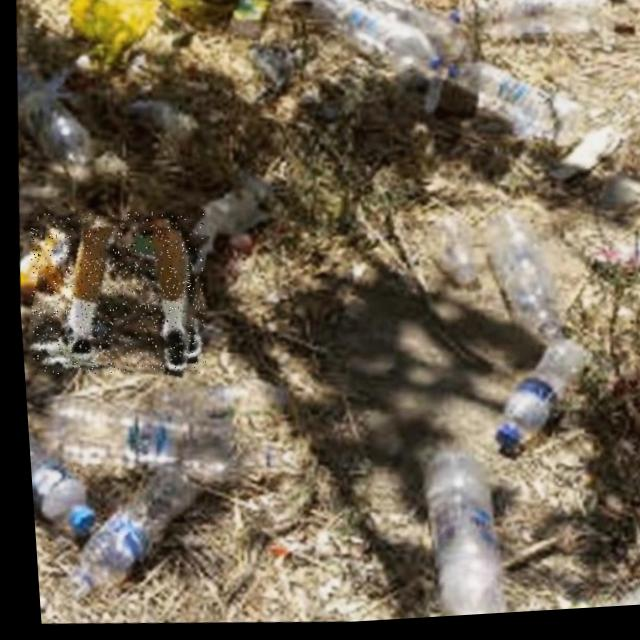Person in Rubble: (18, 205, 209, 384)
